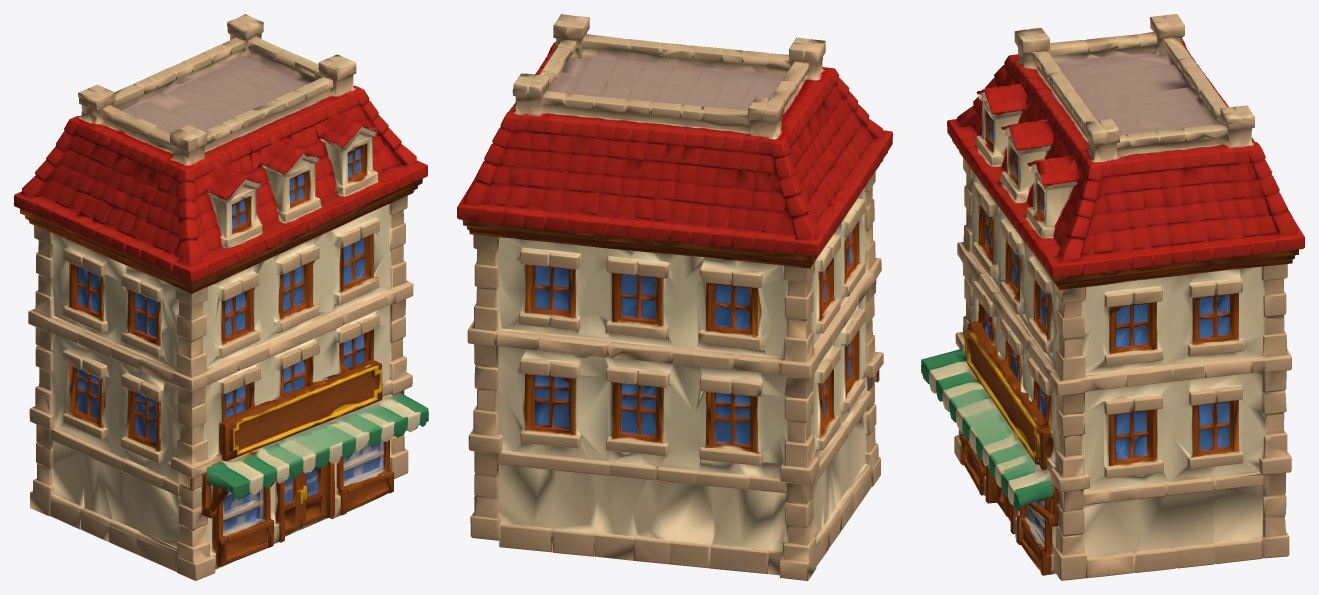
Rendered from shop-3-lite.glb.
3 renders of one model, left to right at view 1: azimuth 30°, elevation 25°; view 2: azimuth 150°, elevation 25°; view 3: azimuth 270°, elevation 25°, orthographic. The views are drawn at different scales.
Visible parts, largest first — view 1: tripo_node_bcdbb44b-40af-4833-83d1-edb53f8b43d0; view 2: tripo_node_bcdbb44b-40af-4833-83d1-edb53f8b43d0; view 3: tripo_node_bcdbb44b-40af-4833-83d1-edb53f8b43d0.
Boxes of the visible parts, <box> form: tripo_node_bcdbb44b-40af-4833-83d1-edb53f8b43d0: <box>14,14,428,580</box>; tripo_node_bcdbb44b-40af-4833-83d1-edb53f8b43d0: <box>457,14,892,580</box>; tripo_node_bcdbb44b-40af-4833-83d1-edb53f8b43d0: <box>921,14,1304,580</box>.
Size of the model in its own units: 10.33 by 12 by 9.58.
1 material, 1 textured.
